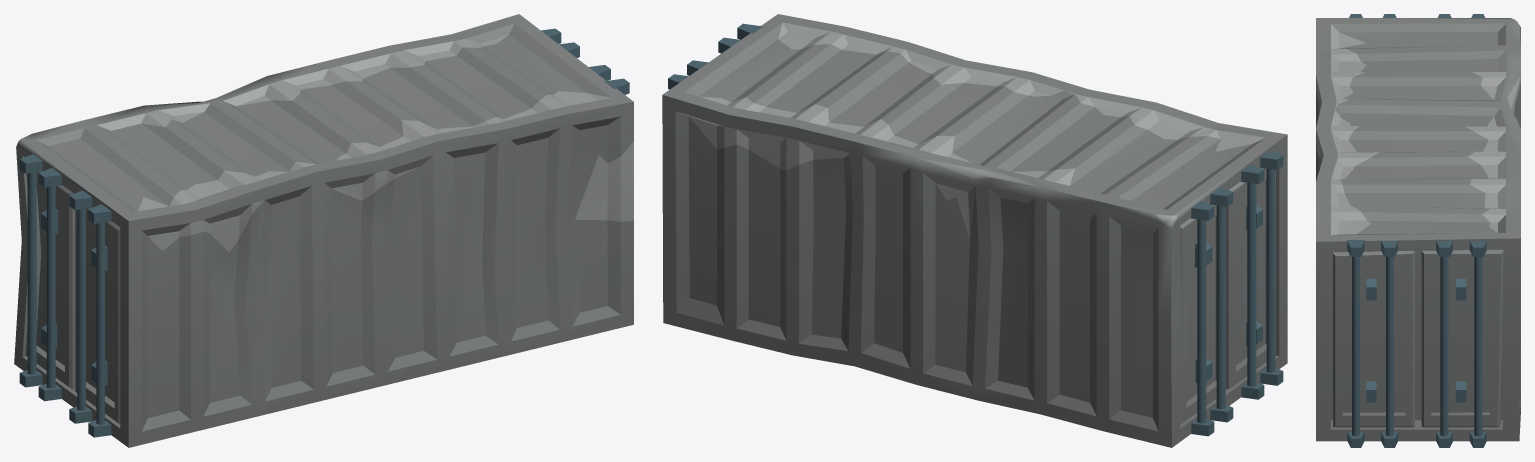
The model's file is DC_Grey.fbx.
3 renders of one model, left to right at view 1: azimuth 30°, elevation 25°; view 2: azimuth 150°, elevation 25°; view 3: azimuth 270°, elevation 25°, orthographic. The views are drawn at different scales.
Parts seen in each view (by area): view 1: DC_Grey; view 2: DC_Grey; view 3: DC_Grey.
Boxes of the visible parts, box(x1,y1,x2,y2) form: DC_Grey: box(14, 14, 633, 447); DC_Grey: box(662, 14, 1287, 447); DC_Grey: box(1316, 14, 1520, 447).
Bounding box in the file's own units: 648 × 262 × 240.
